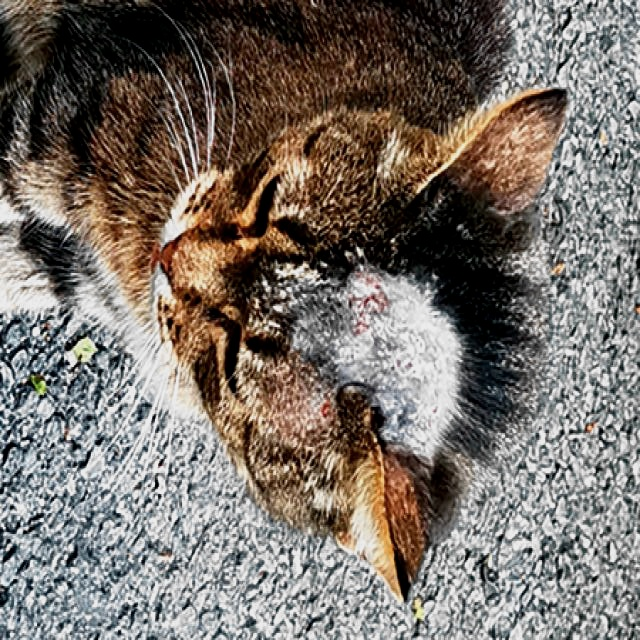ringworm: (267, 271, 466, 461)
